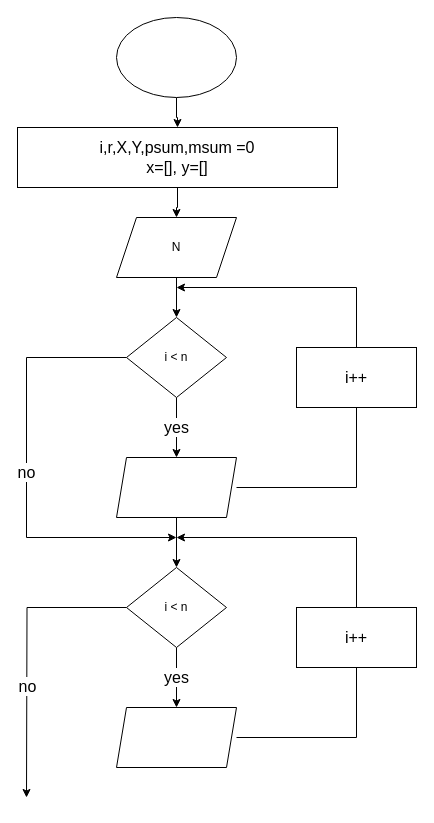
Image size: 434x823. Some labels were removed from this diagram. Here are the shapes that lost their labels. From the top down, the centre of each, then its label:
the point at 176,57: start
the point at 176,487: x[i]
the point at 176,737: y[i]
